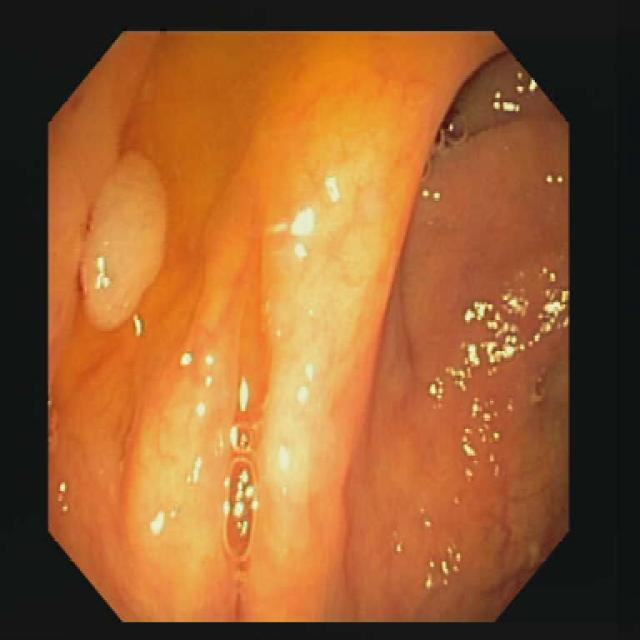tumor: (80, 153, 167, 329)
